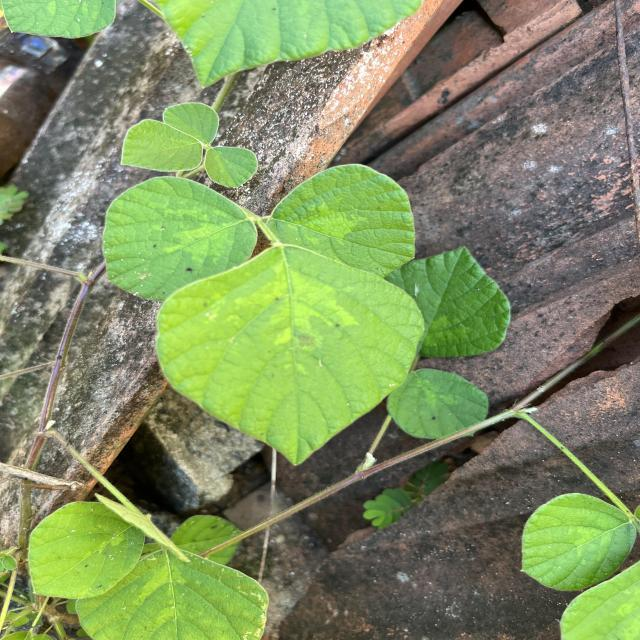Pseudarthria viscida: (100, 160, 423, 468), (117, 100, 261, 189)
